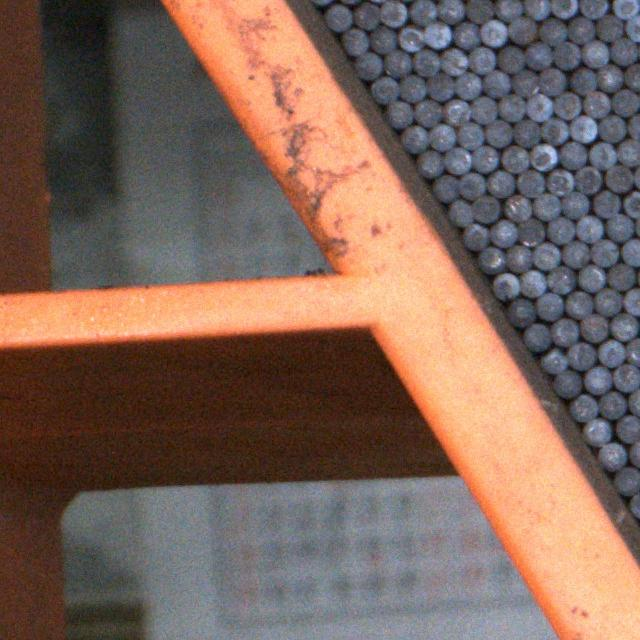tool: (413, 99, 443, 127), (383, 49, 411, 78), (524, 41, 552, 70), (516, 217, 544, 246), (506, 298, 534, 326), (552, 370, 580, 398), (582, 418, 610, 446), (518, 269, 546, 297), (439, 48, 467, 76), (467, 46, 495, 74), (496, 46, 524, 74), (426, 73, 454, 101), (442, 98, 470, 126), (609, 38, 637, 66), (561, 190, 589, 218), (546, 216, 574, 244), (341, 28, 369, 55), (401, 125, 428, 153), (598, 391, 626, 418), (553, 42, 580, 70), (497, 92, 524, 120), (583, 90, 610, 118), (558, 142, 585, 170), (606, 213, 633, 241), (532, 241, 559, 269), (369, 76, 398, 102), (552, 318, 578, 347), (385, 101, 412, 128), (596, 65, 623, 92), (533, 193, 560, 220), (597, 340, 624, 367), (353, 52, 381, 78), (447, 200, 473, 228), (477, 247, 505, 273), (598, 442, 624, 470), (614, 467, 640, 495), (353, 2, 379, 30), (507, 17, 535, 43), (399, 74, 425, 102), (428, 124, 456, 150), (490, 219, 516, 247), (536, 292, 562, 320), (412, 48, 438, 76), (454, 72, 480, 100), (581, 40, 607, 68), (526, 93, 552, 121), (553, 92, 581, 118), (540, 118, 568, 144), (530, 142, 556, 170), (604, 166, 632, 192), (576, 215, 602, 243), (560, 240, 588, 266), (539, 349, 568, 374), (523, 324, 549, 351), (458, 172, 484, 199), (472, 195, 498, 222), (570, 68, 596, 95), (611, 90, 638, 116), (590, 240, 617, 266), (463, 222, 488, 250), (444, 146, 469, 174), (484, 70, 509, 98), (492, 273, 518, 299), (570, 395, 596, 421), (380, 0, 406, 26), (480, 20, 506, 46), (452, 23, 478, 49), (540, 20, 566, 46), (595, 14, 621, 40), (569, 343, 595, 369), (512, 70, 538, 96), (538, 70, 564, 96), (470, 96, 496, 122), (570, 116, 596, 142), (590, 142, 616, 168), (502, 146, 528, 172), (472, 146, 498, 172), (518, 171, 544, 197), (547, 170, 573, 196), (593, 192, 619, 218), (578, 265, 604, 291), (566, 292, 592, 318), (595, 288, 621, 314), (580, 314, 606, 340), (610, 314, 636, 340), (433, 175, 458, 202), (506, 245, 531, 272), (586, 366, 610, 394), (616, 414, 640, 442), (369, 27, 395, 52), (398, 26, 423, 52), (425, 22, 450, 48), (566, 18, 592, 43), (457, 122, 482, 148), (598, 116, 624, 141), (504, 195, 530, 220), (325, 6, 352, 30), (613, 366, 640, 390), (464, 0, 492, 23), (486, 120, 510, 146), (514, 120, 538, 146), (488, 171, 512, 197), (576, 166, 600, 192), (608, 264, 634, 288), (547, 268, 573, 292), (436, 0, 463, 23), (417, 152, 442, 176), (410, 0, 435, 24), (617, 140, 640, 166), (494, 0, 522, 21), (621, 240, 640, 266), (524, 0, 548, 20), (623, 64, 640, 92), (550, 0, 576, 18), (580, 0, 606, 18), (623, 192, 640, 218), (623, 288, 640, 314), (613, 0, 637, 18), (625, 15, 640, 41), (626, 338, 640, 365), (628, 388, 640, 416), (628, 115, 640, 140)
